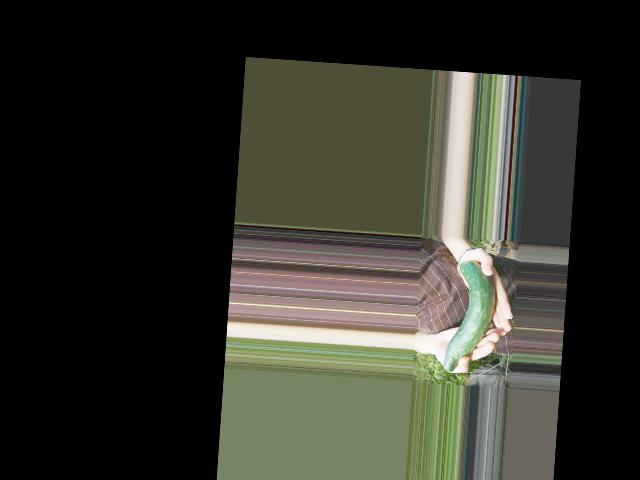cucumber: (443, 258, 497, 374)
